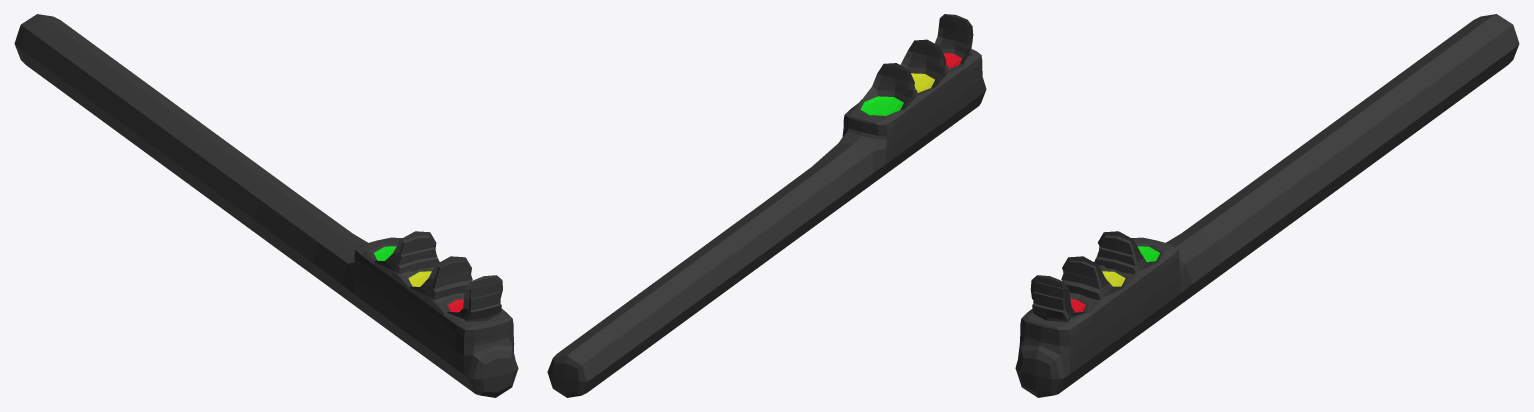
The model's file is traficlamba.glb.
The picture shows the model from 3 angles, left to right: view 1: azimuth 30°, elevation 25°; view 2: azimuth 150°, elevation 25°; view 3: azimuth 330°, elevation 25°; orthographic projection. The views are drawn at different scales.
Parts seen in each view (by area): view 1: shadeBlack; view 2: shadeBlack, shadeGreen; view 3: shadeBlack.
Boxes of the visible parts, x1,y1,x2,y2 form: shadeBlack: [14, 14, 518, 397]; shadeBlack: [547, 14, 986, 397]; shadeGreen: [860, 96, 903, 115]; shadeBlack: [1015, 14, 1519, 397].
Bounding box in the file's own units: 0.2144 × 0.4519 × 3.33.
